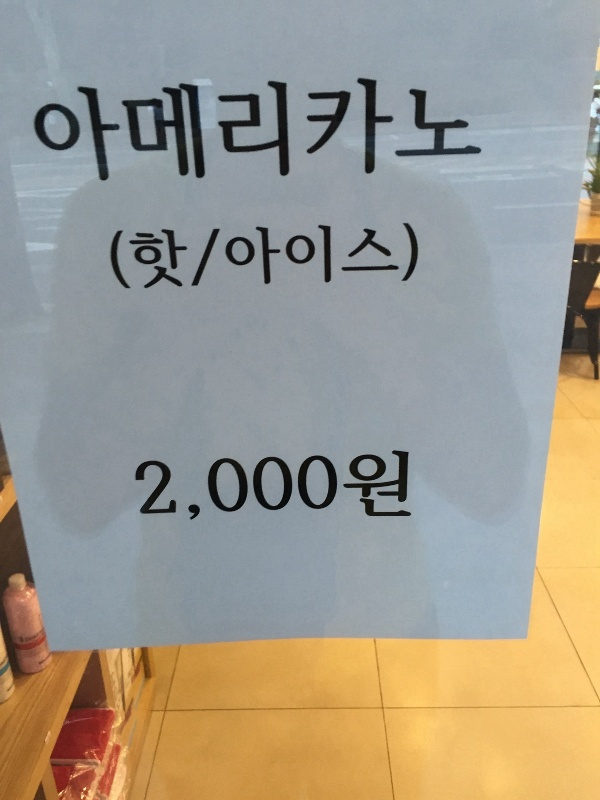text: (33, 79, 48, 185), (49, 79, 64, 185), (65, 79, 80, 185), (81, 79, 96, 185), (97, 79, 112, 185), (113, 79, 128, 185), (129, 79, 144, 185), (145, 79, 160, 185), (161, 79, 176, 185), (177, 79, 192, 185), (193, 79, 208, 185), (209, 79, 224, 185), (225, 79, 240, 185), (241, 79, 256, 185), (257, 79, 272, 185), (273, 79, 288, 185), (289, 79, 304, 185), (305, 79, 320, 185), (321, 79, 336, 185), (337, 79, 352, 185), (353, 79, 368, 185), (369, 79, 384, 185), (385, 79, 400, 185), (401, 79, 416, 185), (417, 79, 432, 185), (433, 79, 448, 185), (449, 79, 464, 185), (465, 79, 480, 185), (145, 452, 160, 522), (161, 452, 176, 522), (177, 452, 192, 522), (193, 452, 208, 522), (209, 452, 224, 522), (225, 452, 240, 522), (241, 452, 256, 522), (257, 452, 272, 522), (273, 452, 288, 522), (289, 452, 304, 522), (305, 452, 320, 522), (321, 452, 336, 522), (337, 452, 352, 522), (353, 452, 368, 522), (369, 452, 384, 522), (385, 452, 400, 522), (113, 224, 128, 292), (129, 224, 144, 292), (145, 224, 160, 292), (161, 224, 176, 292), (177, 224, 192, 292), (193, 224, 208, 292), (209, 224, 224, 292), (225, 224, 240, 292), (241, 224, 256, 292), (257, 224, 272, 292), (273, 224, 288, 292), (289, 224, 304, 292), (305, 224, 320, 292), (321, 224, 336, 292), (337, 224, 352, 292), (353, 224, 368, 292), (369, 224, 384, 292), (385, 224, 400, 292), (401, 224, 416, 292), (401, 452, 412, 522), (134, 452, 144, 522), (108, 224, 112, 292), (481, 79, 483, 185), (417, 224, 420, 292), (31, 79, 32, 185)
